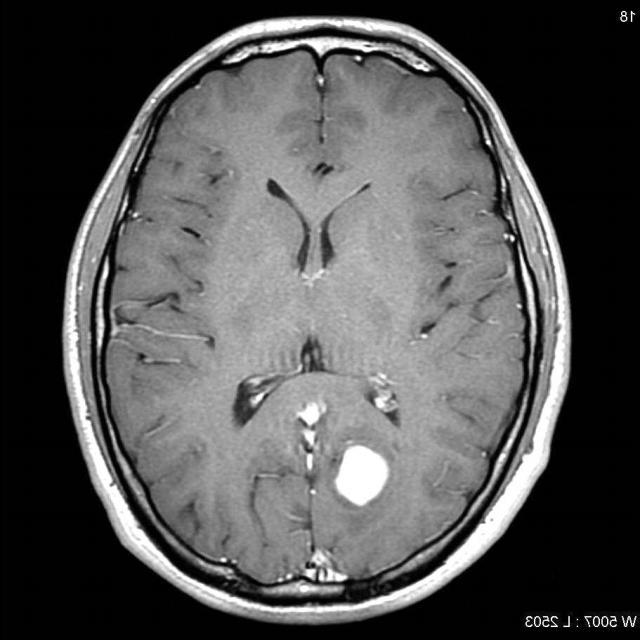tumor: (332, 445, 391, 512)
